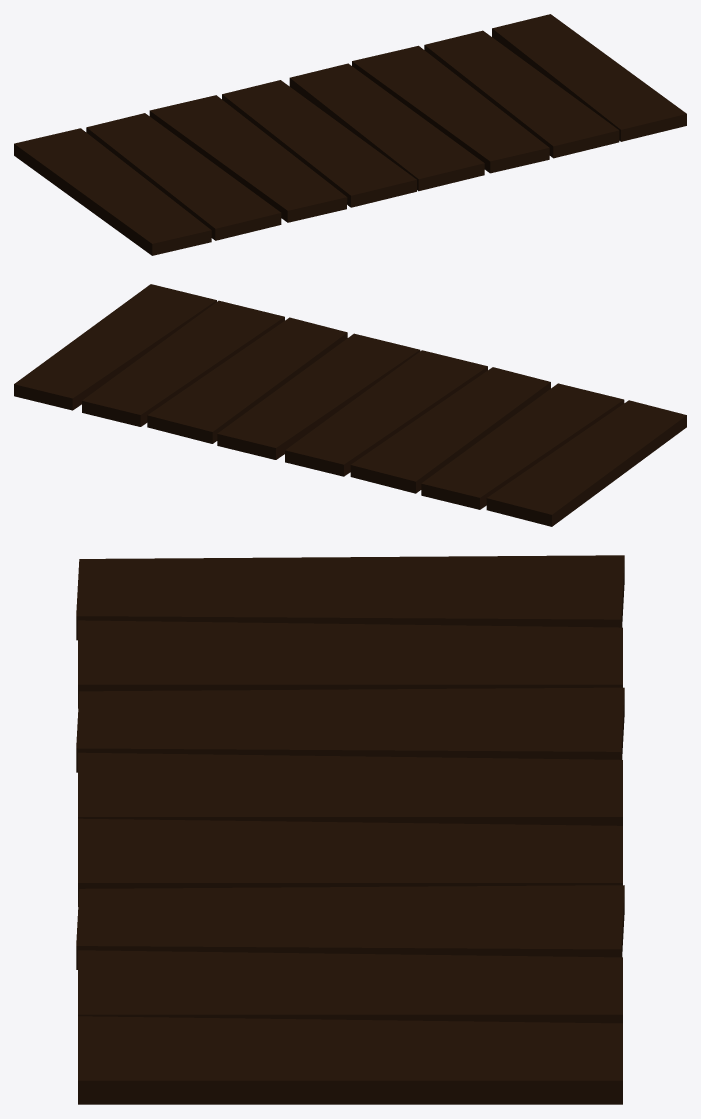
Rendered from Wood_Planks.FBX.
3 views of the same model, one above another, from view 1: azimuth 30°, elevation 25°; view 2: azimuth 150°, elevation 25°; view 3: azimuth 270°, elevation 25° (orthographic). The views are drawn at different scales.
Visible parts, largest first — view 1: Box004; view 2: Box004; view 3: Box004.
Part boxes in pixels (x1,y1,x2,y2): Box004: (14, 14, 686, 255); Box004: (14, 284, 686, 526); Box004: (76, 555, 624, 1104).
Bounding box in the file's own units: 120 × 4.28 × 53.23.
